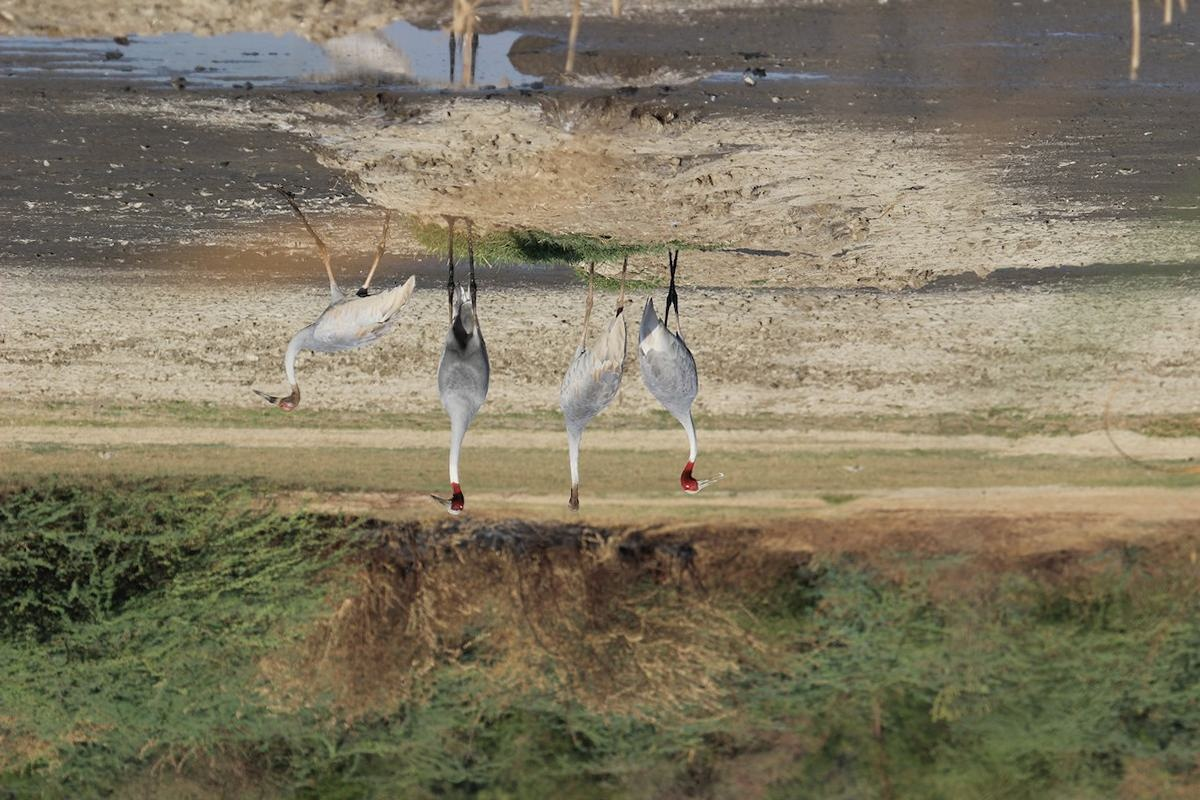crane: (268, 196, 421, 413), (624, 251, 733, 505), (548, 265, 635, 517), (427, 233, 490, 521)
